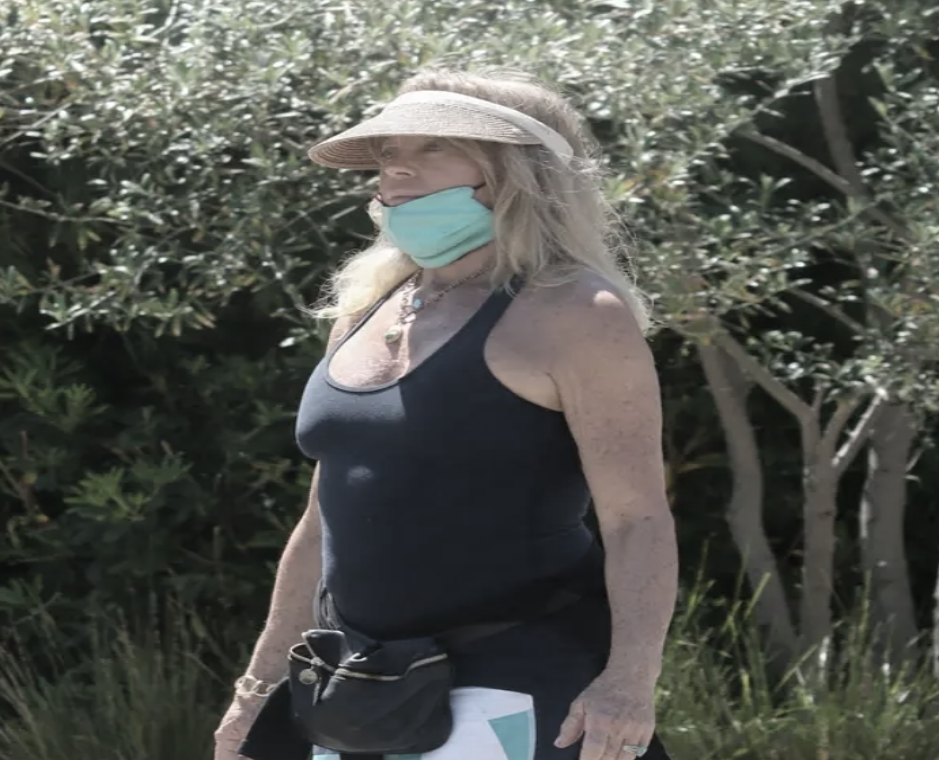mask_weared_incorrect: (322, 72, 588, 275)
